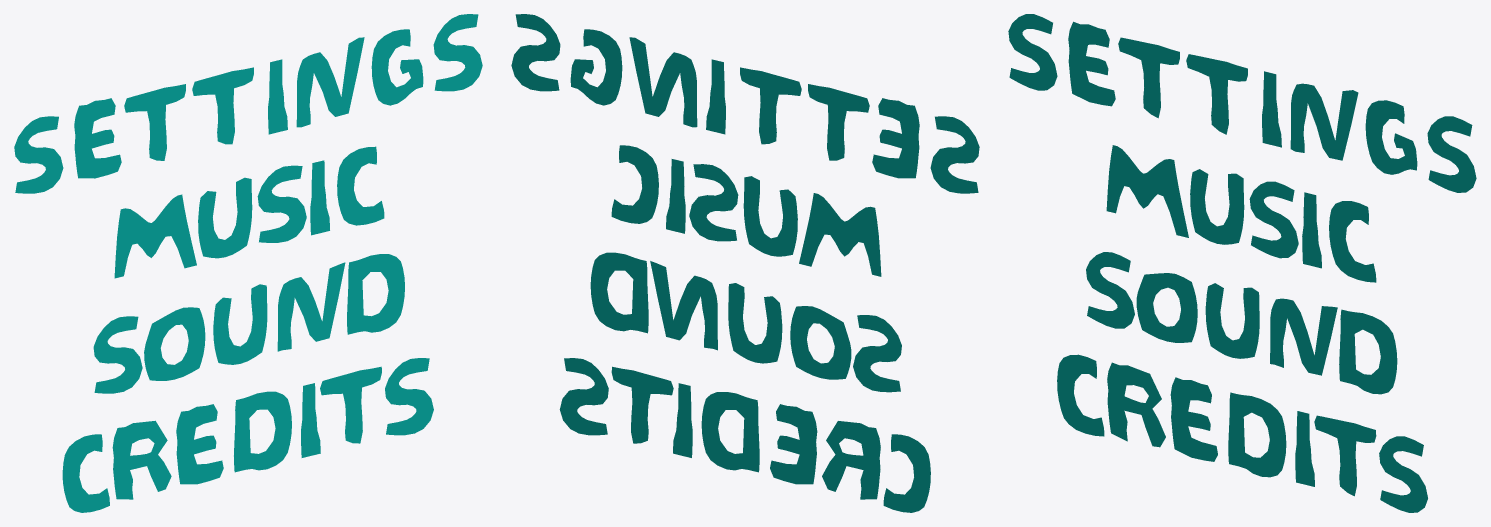
File: mesh_settingsscreen_text.fbx
The picture shows the model from 3 angles, left to right: view 1: azimuth 30°, elevation 25°; view 2: azimuth 150°, elevation 25°; view 3: azimuth 330°, elevation 25°; orthographic projection.
Visible parts, largest first — view 1: mesh_settingsscreen_text1, mesh_settingsscreen_text4, mesh_settingsscreen_text3, mesh_settingsscreen_text2; view 2: mesh_settingsscreen_text1, mesh_settingsscreen_text4, mesh_settingsscreen_text3, mesh_settingsscreen_text2; view 3: mesh_settingsscreen_text1, mesh_settingsscreen_text4, mesh_settingsscreen_text3, mesh_settingsscreen_text2.
Boxes of the visible parts, <box> form: mesh_settingsscreen_text1: <box>14,14,482,193</box>; mesh_settingsscreen_text4: <box>62,358,433,512</box>; mesh_settingsscreen_text3: <box>93,254,404,393</box>; mesh_settingsscreen_text2: <box>114,146,384,278</box>; mesh_settingsscreen_text1: <box>511,14,979,193</box>; mesh_settingsscreen_text4: <box>559,358,930,512</box>; mesh_settingsscreen_text3: <box>590,252,901,392</box>; mesh_settingsscreen_text2: <box>611,145,881,276</box>; mesh_settingsscreen_text1: <box>1008,14,1476,192</box>; mesh_settingsscreen_text4: <box>1057,354,1427,512</box>; mesh_settingsscreen_text3: <box>1086,252,1397,394</box>; mesh_settingsscreen_text2: <box>1106,145,1376,282</box>.
Size of the model in its own units: 0.1331 by 0.1115 by 0.000581.
